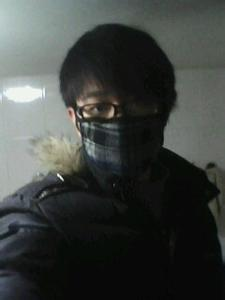face_mask: (77, 71, 162, 171)
